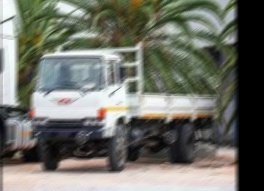truck: (28, 41, 218, 174)
